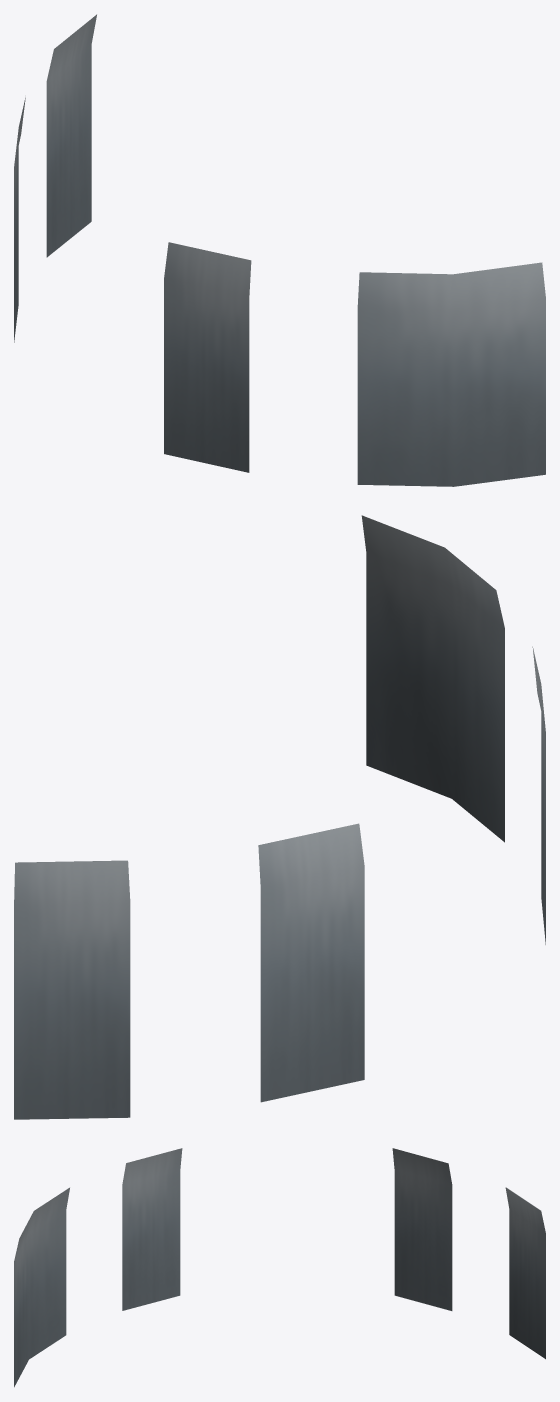
File: Cor1_bldg_Youngling_Room_windows_3.fbx
The picture shows the model from 3 angles, top to bottom: view 1: azimuth 30°, elevation 25°; view 2: azimuth 150°, elevation 25°; view 3: azimuth 270°, elevation 25°; orthographic projection. The views are drawn at different scales.
Visible parts, largest first — view 1: _3; view 2: _3; view 3: _3.
Part boxes in pixels (bbox=[...]): _3: bbox=[14, 14, 545, 486]; _3: bbox=[14, 515, 545, 1119]; _3: bbox=[14, 1148, 545, 1387].
Size of the model in its own units: 9.78 by 7.38 by 23.79.
